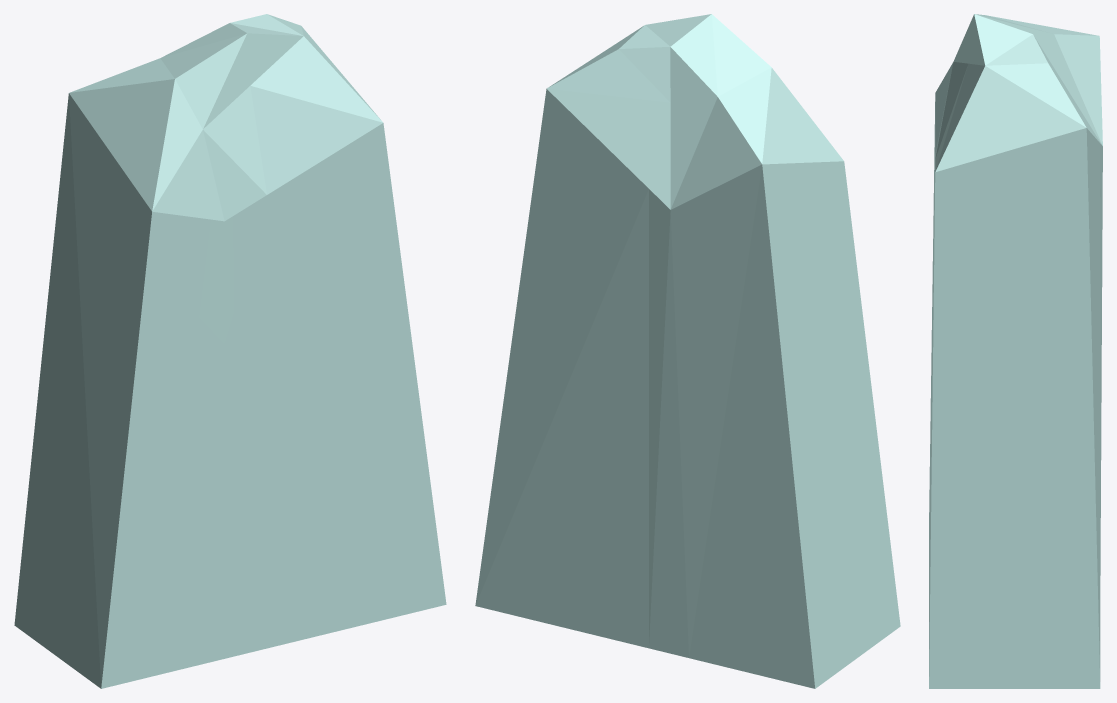
The picture shows the model from 3 angles, left to right: view 1: azimuth 30°, elevation 25°; view 2: azimuth 150°, elevation 25°; view 3: azimuth 270°, elevation 25°; orthographic projection.
Visible parts, largest first — view 1: Object54; view 2: Object54; view 3: Object54.
Part boxes in pixels (left/top/right/bottom): Object54: left=14, top=14, right=446, bottom=688; Object54: left=475, top=14, right=900, bottom=688; Object54: left=929, top=14, right=1102, bottom=688.
Size of the model in its own units: 153 by 254 by 67.77.
